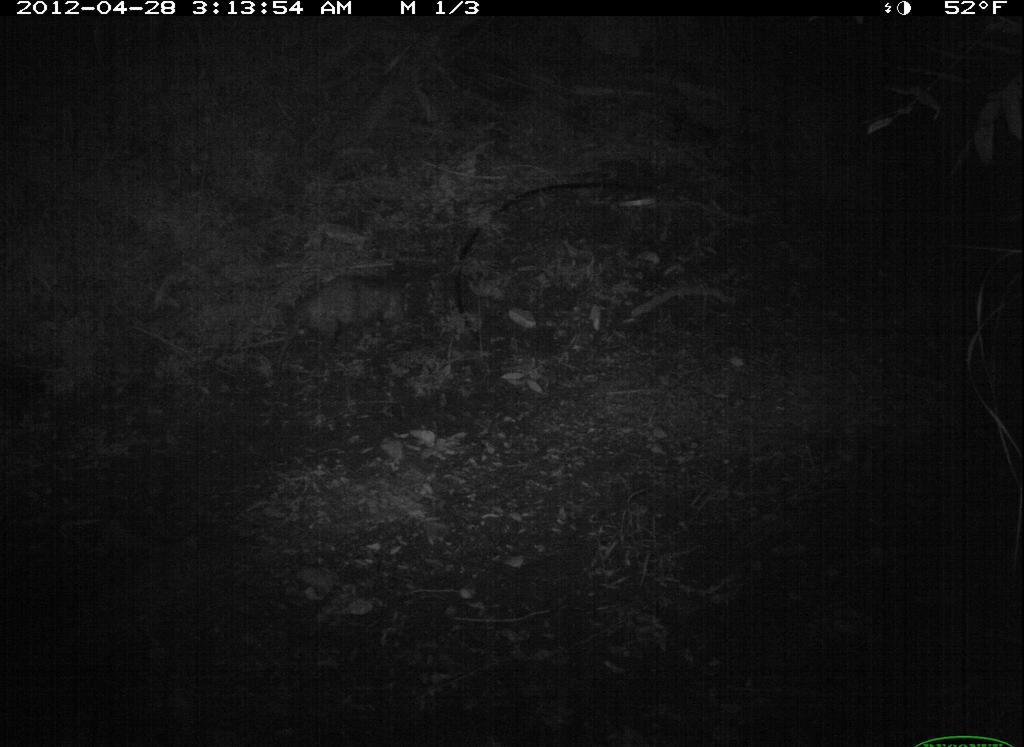opossum: (277, 258, 436, 359)
